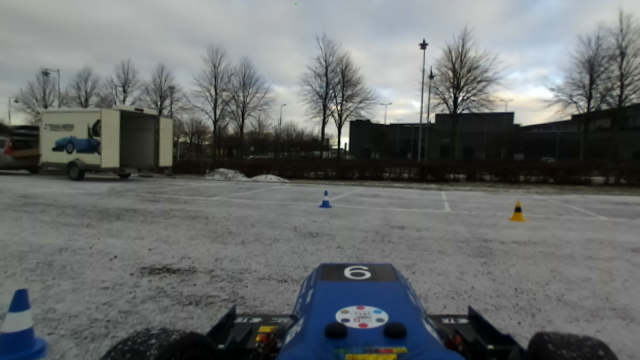blue: (316, 190, 334, 210)
yellow: (505, 198, 528, 224)
